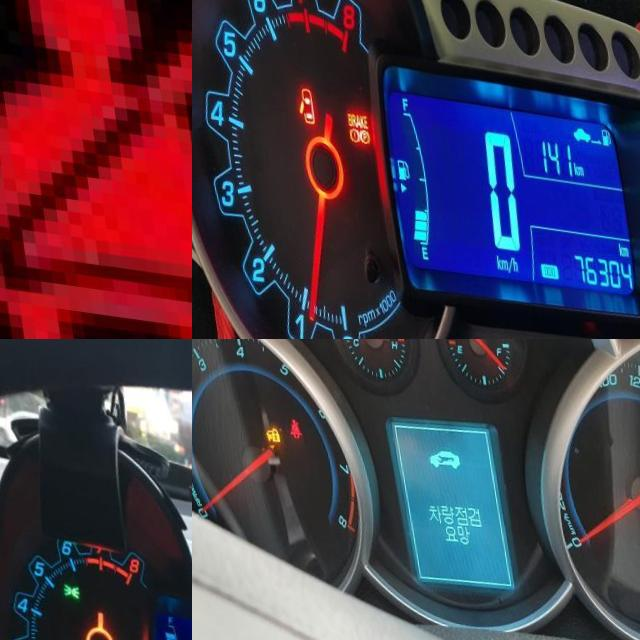SideLamp: (53, 573, 73, 594)
